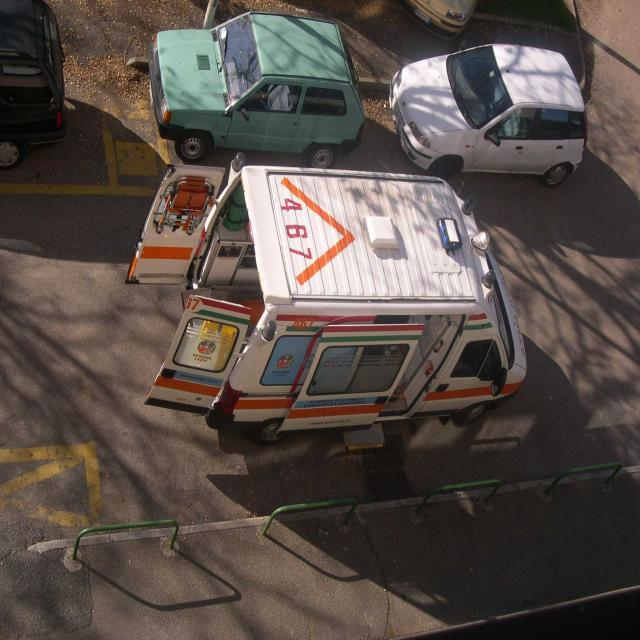emergency-vehicle: (125, 172, 524, 446)
